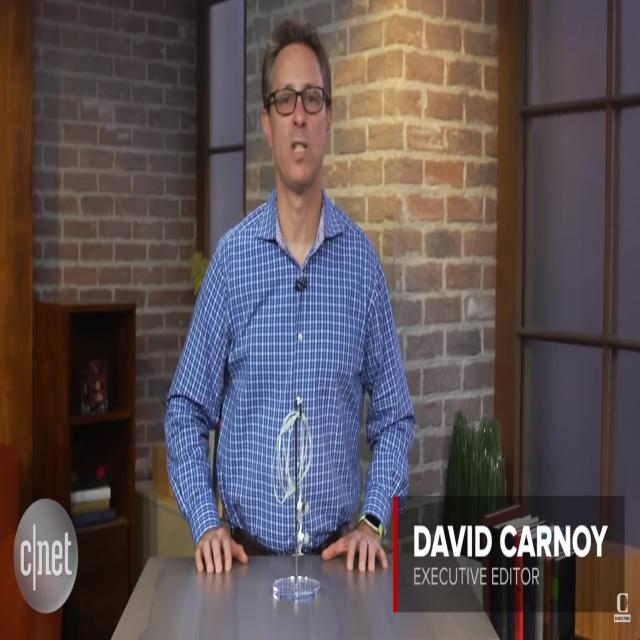Earphone: (272, 410, 312, 557)
